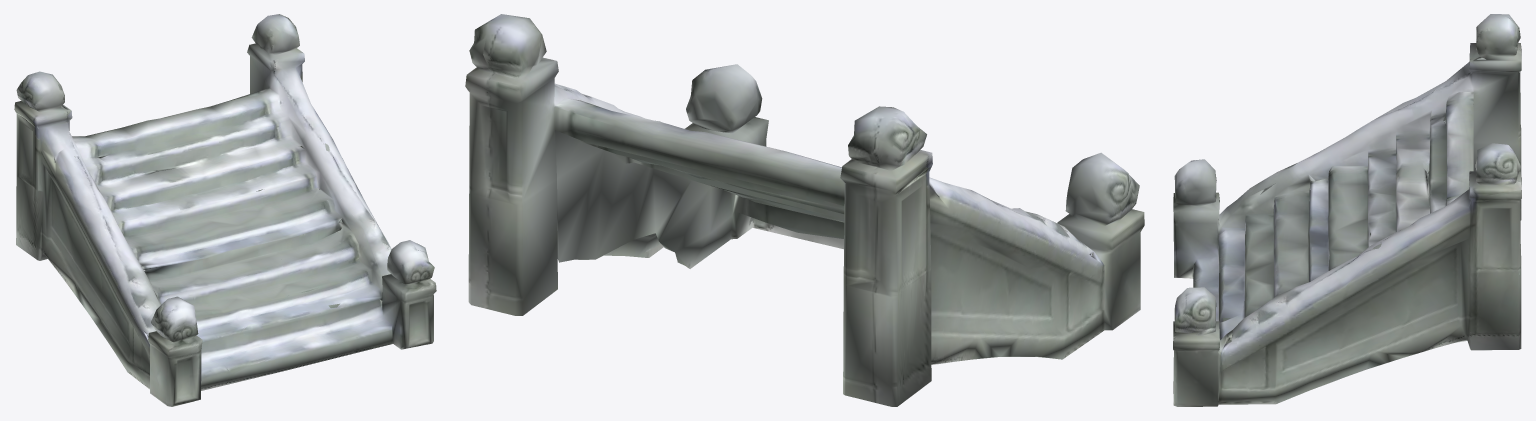
Rendered from SM_Tripo_FrostStairs.glb.
The picture shows the model from 3 angles, left to right: view 1: azimuth 30°, elevation 25°; view 2: azimuth 150°, elevation 25°; view 3: azimuth 270°, elevation 25°; orthographic projection. The views are drawn at different scales.
Parts seen in each view (by area): view 1: SM_Tripo_FrostStairs_LOD0; view 2: SM_Tripo_FrostStairs_LOD0; view 3: SM_Tripo_FrostStairs_LOD0.
Boxes of the visible parts, x1,y1,x2,y2 form: SM_Tripo_FrostStairs_LOD0: (14,14,436,406); SM_Tripo_FrostStairs_LOD0: (465,14,1144,406); SM_Tripo_FrostStairs_LOD0: (1173,14,1521,406).
Size of the model in its own units: 3.63 by 2.88 by 3.62.
1 material, 1 textured.
